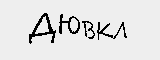В: (83, 17, 94, 41)
Д: (26, 10, 56, 45)
К: (96, 18, 111, 43)
Л: (111, 17, 127, 42)
Ю: (59, 12, 83, 36)
